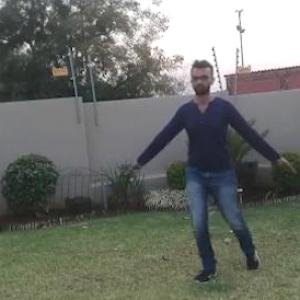land: (153, 72, 282, 250)
